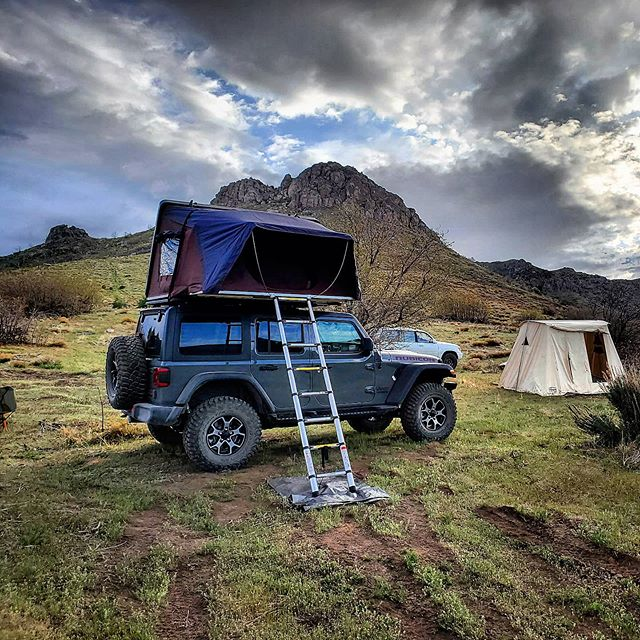car: (125, 312, 462, 455)
grass: (30, 379, 640, 639)
mountain: (9, 174, 640, 324)
sky: (1, 1, 625, 230)
tent: (142, 201, 352, 302), (510, 318, 620, 409)
